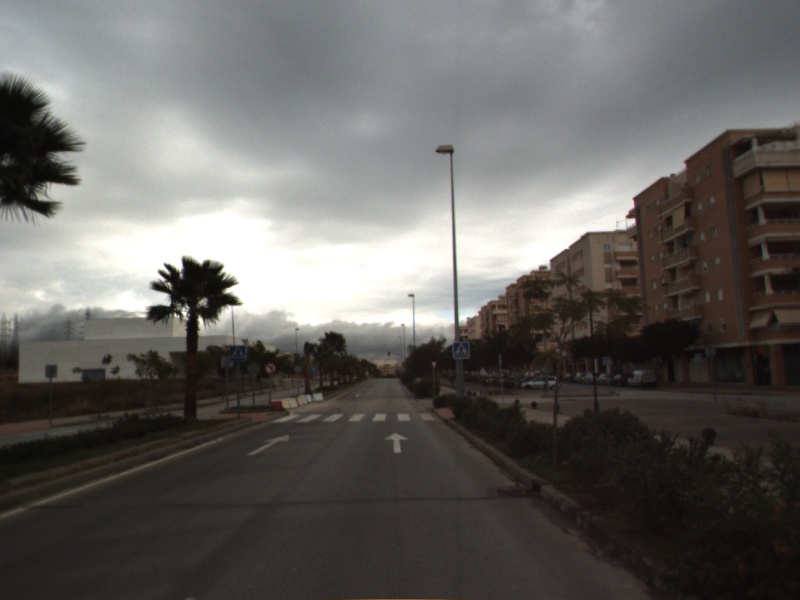STRAIGHT: (245, 432, 291, 457), (382, 431, 410, 454)
